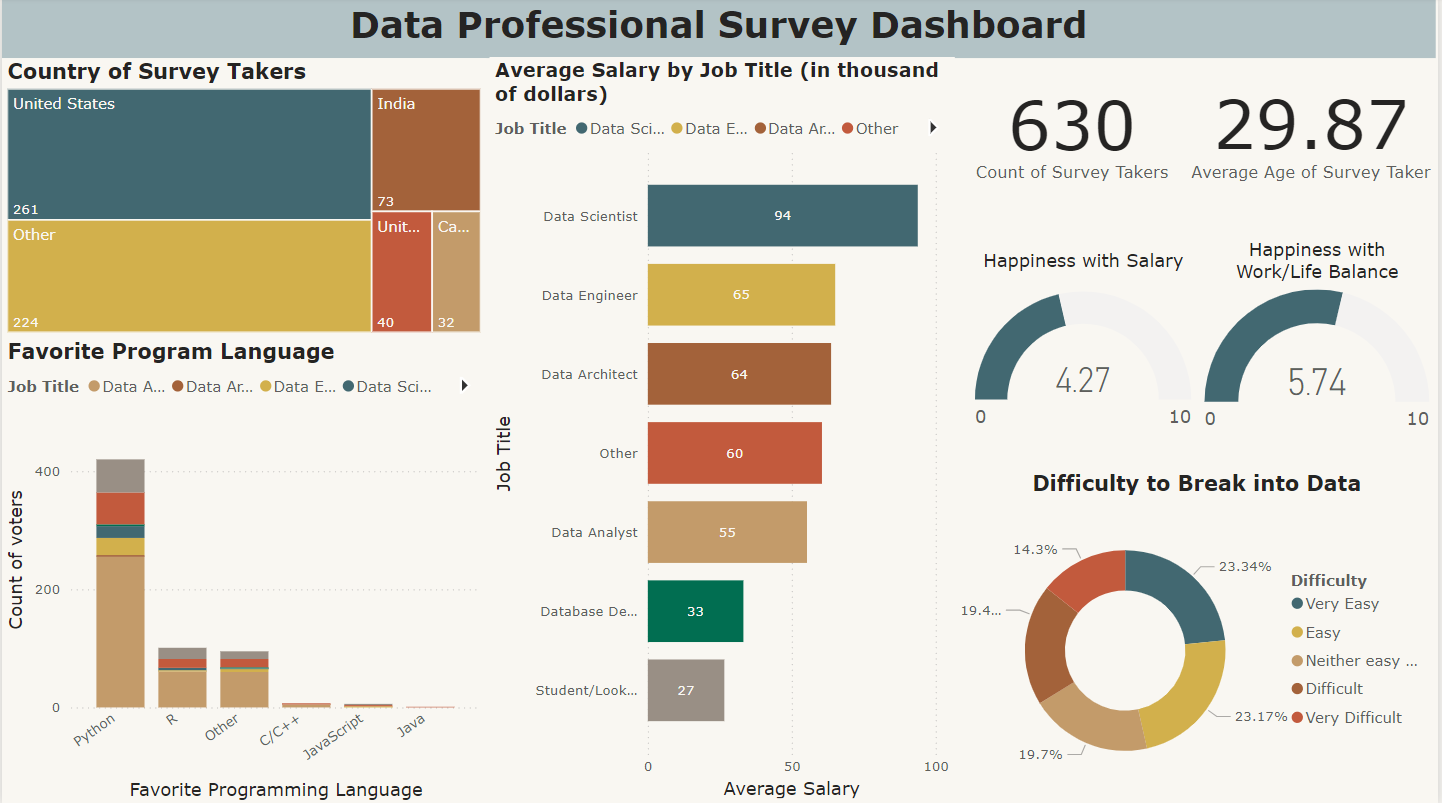

The dashboard page shown, as its layout file describes it:
{"tool":"powerbi","page":{"name":"Page 1","canvas":[1280,720],"ordinal":0},"visuals":[{"type":"textbox","box":[0,0,1276.4,54.3],"z":0},{"type":"card","fields":{"Values":["Count(Data Professional Survey.Unique ID)"]},"box":[848.1,55.5,209.9,126.7],"z":1000},{"type":"card","fields":{"Values":["Avg(Data Professional Survey.Q10 - Current Age)"]},"box":[1052,55.5,228,125.5],"z":2000},{"type":"barChart","title":"Average Salary by Job Title (in thousand of dollars)","fields":{"Category":["Data Professional Survey.Q1 - Which Title Best Fits your Current Role?.1"],"Y":["Avg(Data Professional Survey.Average Salary)"],"Series":["Data Professional Survey.Q1 - Which Title Best Fits your Current Role?.1"]},"box":[434.1,53.8,414.5,665.2],"z":3000},{"type":"columnChart","title":"Favorite Program Language","fields":{"Category":["Data Professional Survey.Q5 - Favorite Programming Language.1"],"Y":["CountNonNull(Data Professional Survey.Unique ID)"],"Series":["Data Professional Survey.Q1 - Which Title Best Fits your Current Role?.1"]},"box":[0,303.5,431.4,415.9],"z":4000},{"type":"treemap","title":"Country of Survey Takers","fields":{"Group":["Data Professional Survey.Q11 - Which Country do you live in?.1"],"Values":["CountNonNull(Data Professional Survey.Q11 - Which Country do you live in?.1)"]},"box":[0,54.2,431.4,249.3],"z":5000},{"type":"gauge","title":"Happiness with Work/Life Balance","fields":{"Y":["Avg(Data Professional Survey.Q6 - How Happy are you in your Current Position with the following? (Work/Life Balance))"],"MinValue":["Min(Data Professional Survey.Q6 - How Happy are you in your Current Position with the following? (Work/Life Balance))1"],"MaxValue":["Max(Data Professional Survey.Q6 - How Happy are you in your Current Position with the following? (Work/Life Balance))2"]},"box":[1064.8,214.9,211.7,179.6],"z":6000},{"type":"gauge","title":"Happiness with Salary","fields":{"Y":["Avg(Data Professional Survey.Q6 - How Happy are you in your Current Position with the following? (Salary))"],"MinValue":["Min(Data Professional Survey.Q6 - How Happy are you in your Current Position with the following? (Salary))"],"MaxValue":["Max(Data Professional Survey.Q6 - How Happy are you in your Current Position with the following? (Salary))"]},"box":[861.4,224.4,202.7,178.6],"z":7000},{"type":"donutChart","title":"Difficulty to Break into Data","fields":{"Y":["Avg(Data Professional Survey.Average Salary)"],"Category":["Data Professional Survey.Q7 - How difficult was it for you to break into Data?"]},"box":[848.3,421.8,431.4,298.3],"z":8000}]}

Visuals, with their boxes in screenshot pixels (x1, y1, x2, y2), scaled from the page's 1280x720 canvas onto the 1442x803 screenshot:
textbox: pyautogui.locateOnScreen(0, 0, 1438, 61)
card - Count(Data Professional Survey.Unique ID): pyautogui.locateOnScreen(955, 62, 1192, 203)
card - Avg(Data Professional Survey.Q10 - Current Age): pyautogui.locateOnScreen(1185, 62, 1441, 202)
"Average Salary by Job Title (in thousand of dollars)" barChart: pyautogui.locateOnScreen(489, 60, 956, 802)
"Favorite Program Language" columnChart: pyautogui.locateOnScreen(0, 338, 486, 802)
"Country of Survey Takers" treemap: pyautogui.locateOnScreen(0, 60, 486, 338)
"Happiness with Work/Life Balance" gauge: pyautogui.locateOnScreen(1200, 240, 1438, 440)
"Happiness with Salary" gauge: pyautogui.locateOnScreen(970, 250, 1199, 449)
"Difficulty to Break into Data" donutChart: pyautogui.locateOnScreen(956, 470, 1441, 802)
